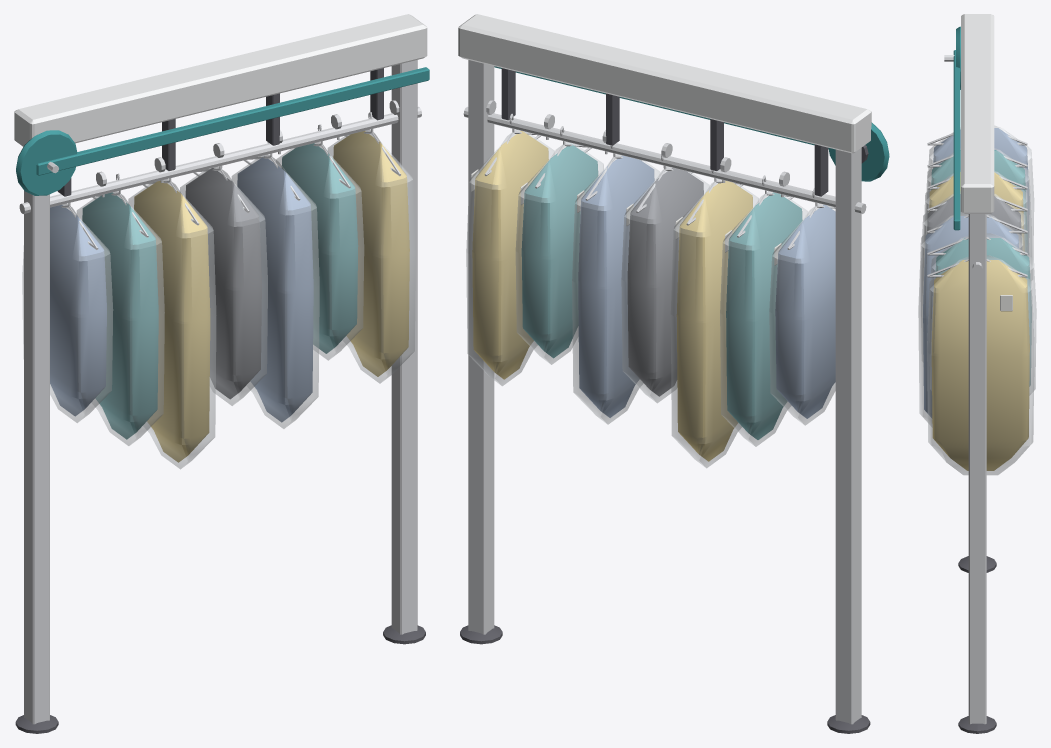
Rendered from dry-cleaners-and-alterations-shop-garment-conveyor-rai-5b619b98__34937.glb.
The picture shows the model from 3 angles, left to right: view 1: azimuth 30°, elevation 25°; view 2: azimuth 150°, elevation 25°; view 3: azimuth 270°, elevation 25°; orthographic projection. The views are drawn at different scales.
Parts seen in each view (by area): view 1: garment-conveyor-rail-unit, rail-wheel/accent; view 2: garment-conveyor-rail-unit, rail-wheel/accent; view 3: garment-conveyor-rail-unit, rail-wheel/accent.
Part boxes in pixels (left/top/right/bottom): garment-conveyor-rail-unit: left=14, top=14, right=429, bottom=733; rail-wheel/accent: left=16, top=130, right=76, bottom=195; garment-conveyor-rail-unit: left=458, top=14, right=871, bottom=733; rail-wheel/accent: left=828, top=122, right=889, bottom=181; garment-conveyor-rail-unit: left=918, top=14, right=1036, bottom=733; rail-wheel/accent: left=956, top=26, right=960, bottom=89.
Size of the model in its own units: 1.68 by 2.36 by 0.4617.
